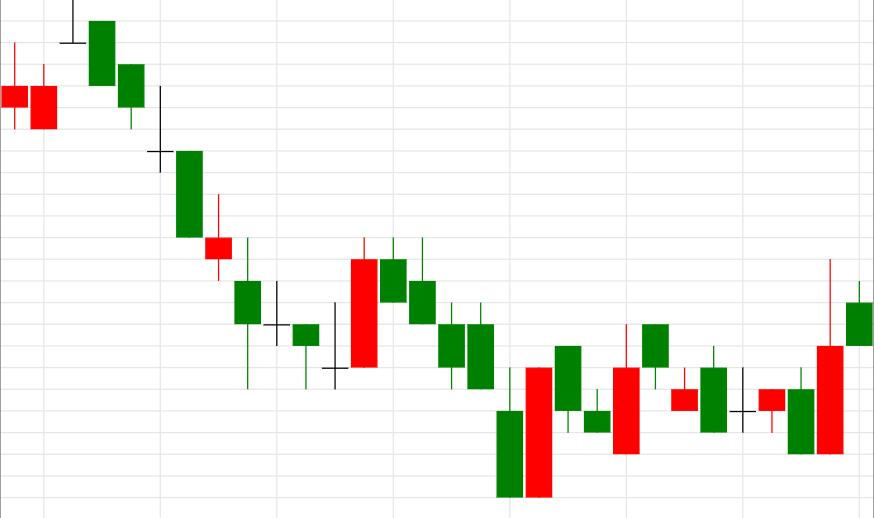bullish_engulfing_rise: (380, 237, 553, 497)
